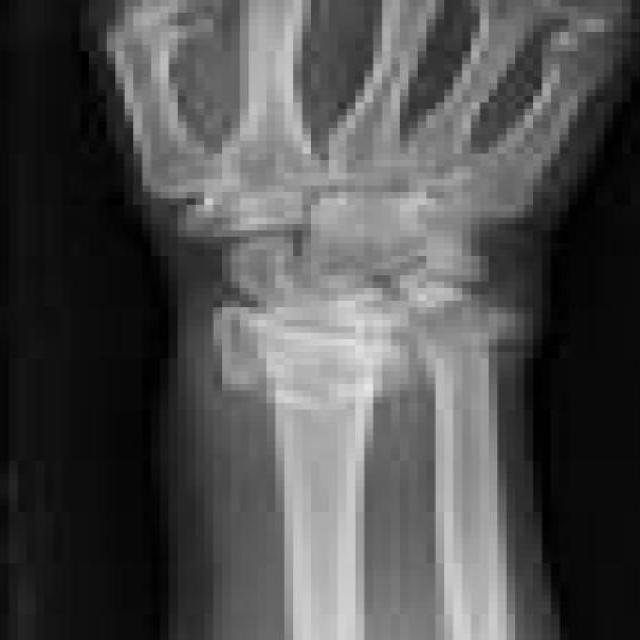Impacted: (218, 152, 525, 388)
